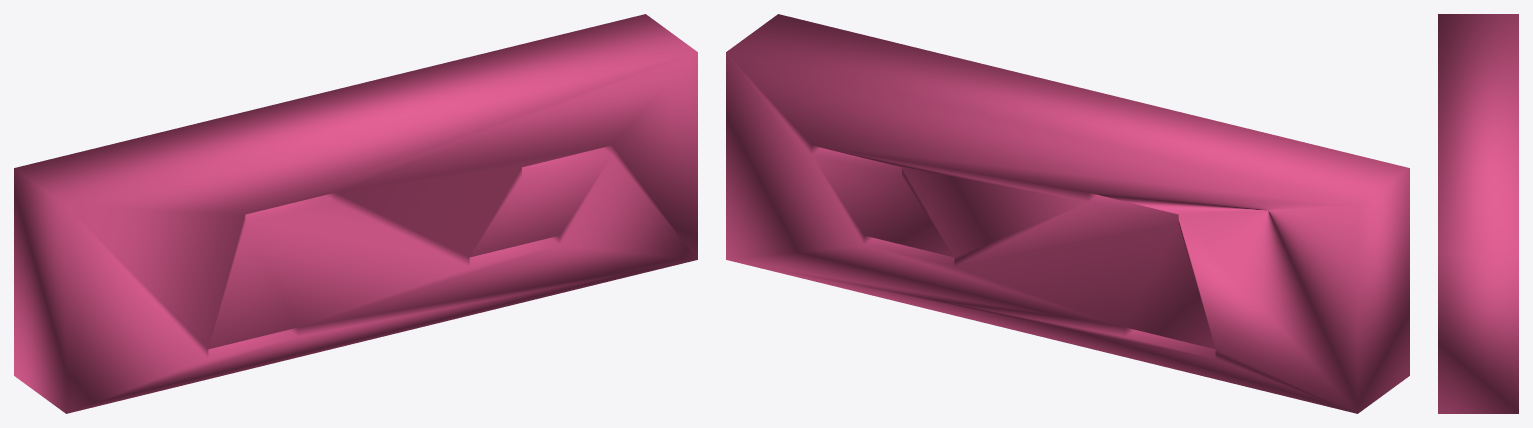
File: book-shelf.obj
3 views of the same model, side by side, from view 1: azimuth 30°, elevation 25°; view 2: azimuth 150°, elevation 25°; view 3: azimuth 270°, elevation 25° (orthographic). The views are drawn at different scales.
Parts seen in each view (by area): view 1: Box001; view 2: Box001; view 3: Box001.
Boxes of the visible parts, left/top/right/bottom form: Box001: left=14, top=14, right=697, bottom=413; Box001: left=726, top=14, right=1409, bottom=413; Box001: left=1438, top=14, right=1518, bottom=413.
Size of the model in its own units: 7 by 2.2 by 1.
